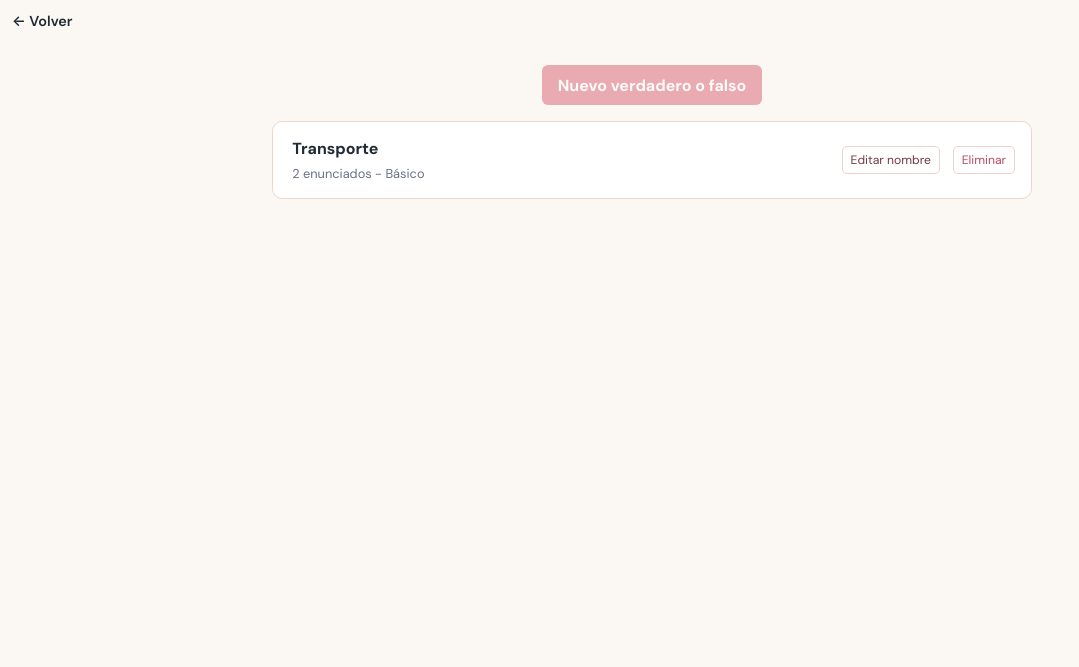
Test: TrueFalsePage › persiste cada respuesta con su identificador de intento y cuenta los aciertos
The image size is (1079, 667).
Click the button "Transporte 2 enunciados - Básico".
click(335, 149)  # box [289, 135, 829, 185]
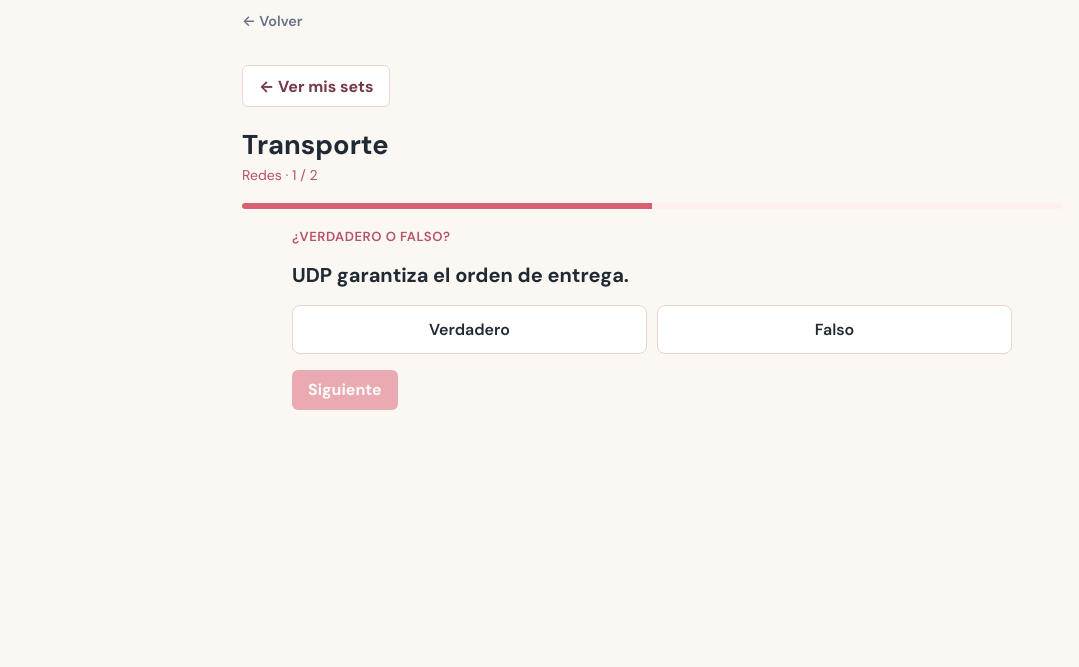
expect the heading "UDP garantiza el orden de entrega." is shown: met, box [292, 262, 629, 288]
# El primero es falso: elegir "Falso" es acertar.
Click the button "Falso".
click(835, 329)  # box [657, 305, 1012, 354]
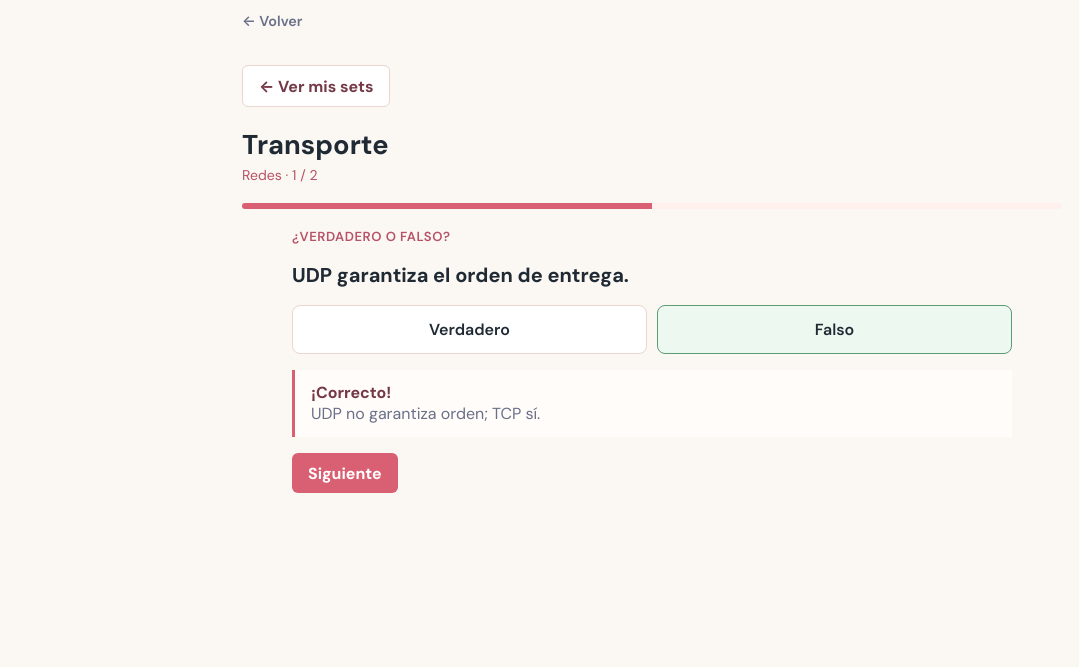
expect the button "Verdadero" is disabled: met, box [292, 305, 647, 354]
expect the text "¡Correcto!" is shown: met, box [311, 382, 391, 403]
Click the button "Siguiente".
click(345, 473)  # box [292, 453, 398, 493]
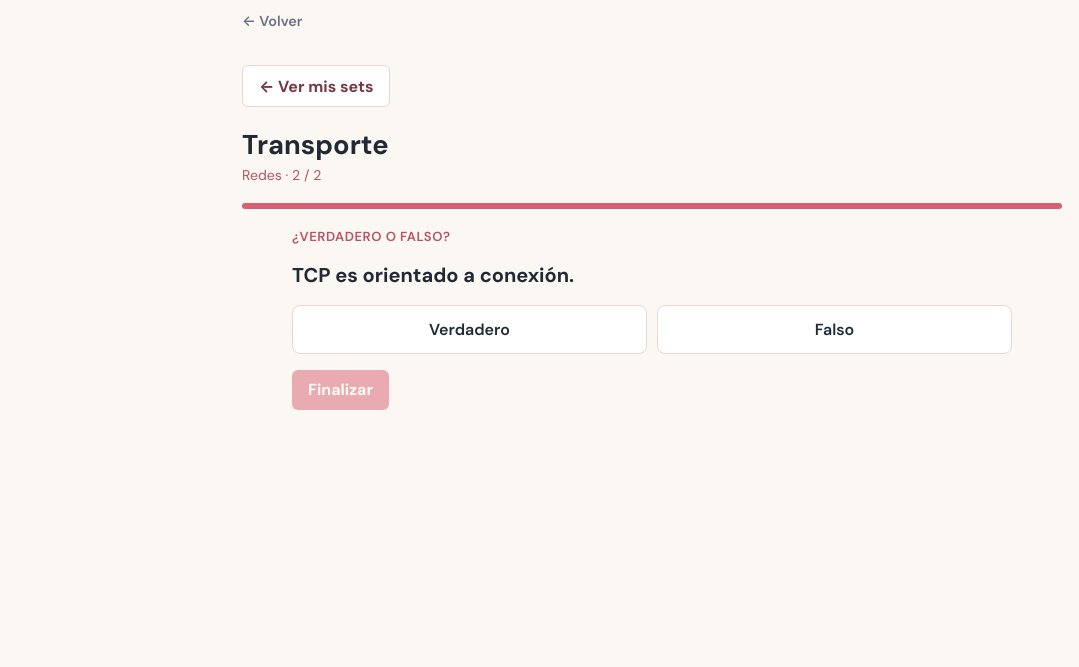
# El segundo es verdadero: elegir "Falso" es errar, y se dice cuál era.
Click the button "Falso".
click(835, 329)  # box [657, 305, 1012, 354]
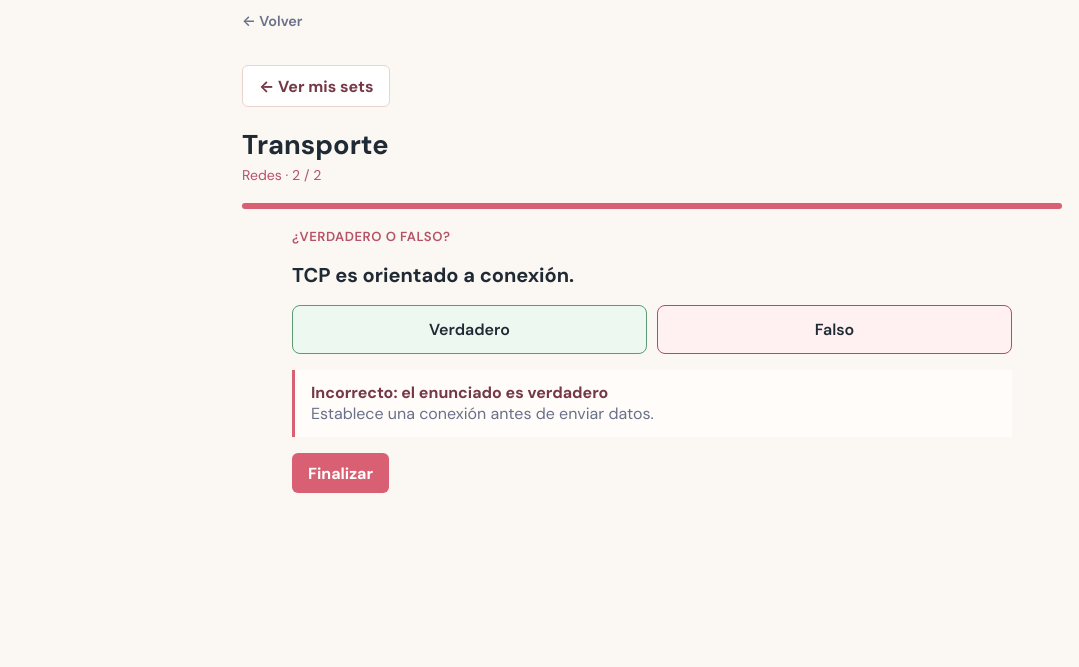
expect the text "Incorrecto: el enunciado es verdadero" is shown: met, box [311, 382, 608, 403]
Click the button "Finalizar".
click(340, 473)  # box [292, 453, 389, 493]
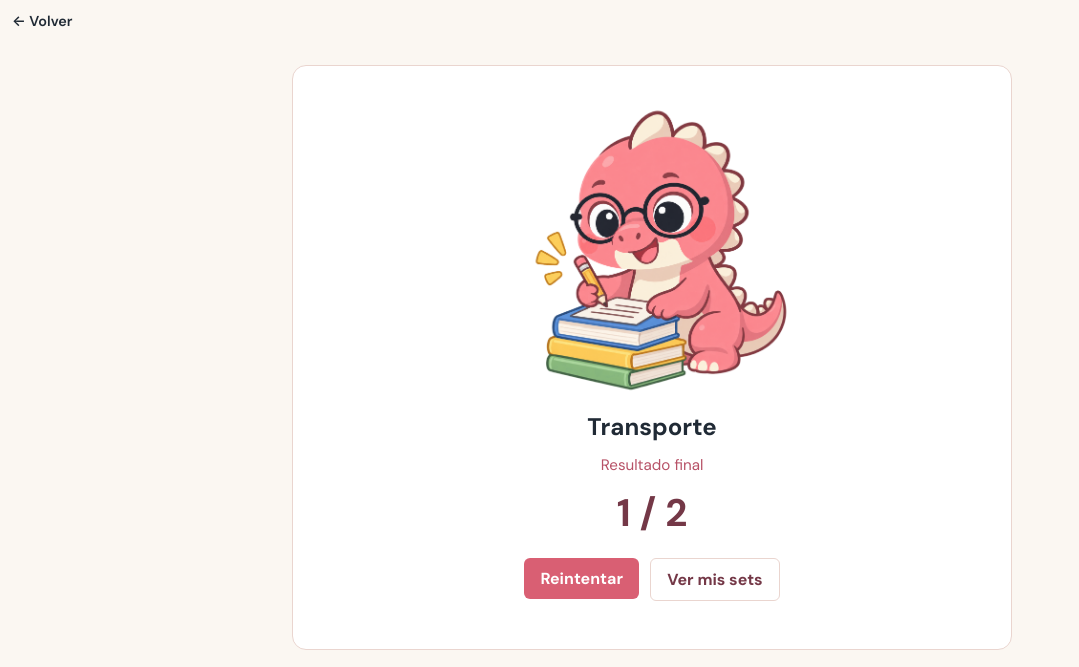
expect the text "Resultado final" is shown: met, box [601, 455, 703, 475]
expect the text "1 / 2" is shown: met, box [617, 488, 687, 538]
